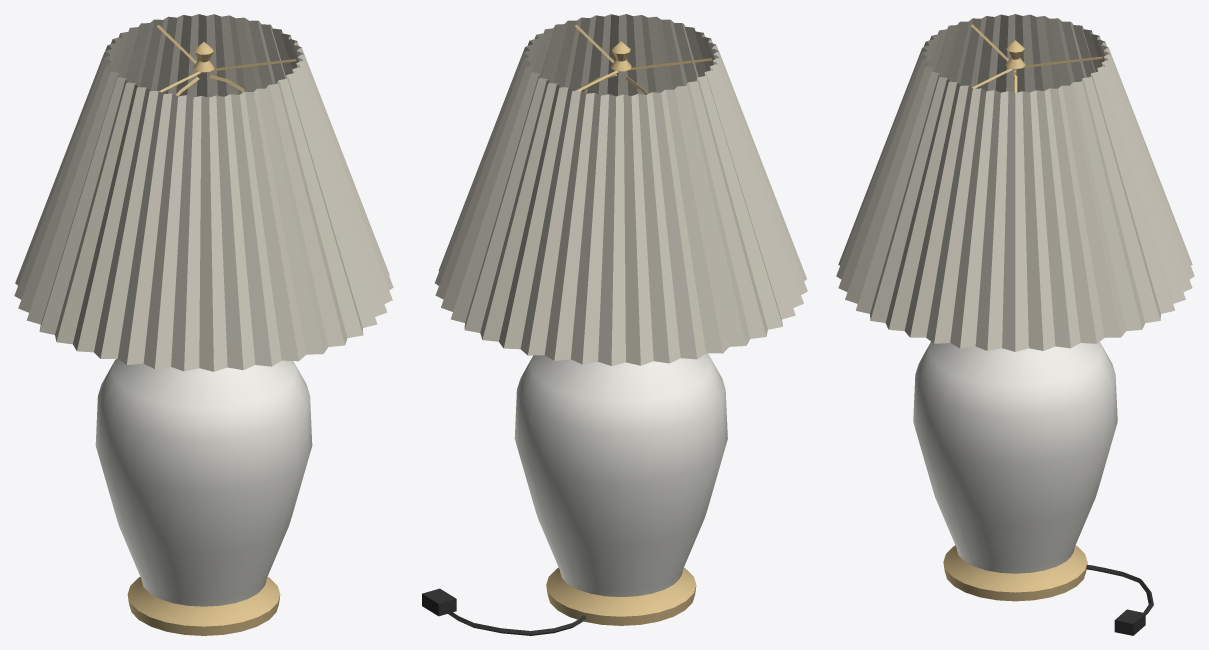
File: Kit_TableLampPleated.fbx
3 views of the same model, side by side, from view 1: azimuth 30°, elevation 25°; view 2: azimuth 150°, elevation 25°; view 3: azimuth 270°, elevation 25° (orthographic). The views are drawn at different scales.
Parts seen in each view (by area): view 1: Kit_TableLampPleated_LOD0; view 2: Kit_TableLampPleated_LOD0; view 3: Kit_TableLampPleated_LOD0.
Boxes of the visible parts, box(x1,y1,x2,y2) form: Kit_TableLampPleated_LOD0: box(14, 14, 393, 635); Kit_TableLampPleated_LOD0: box(422, 14, 807, 635); Kit_TableLampPleated_LOD0: box(836, 14, 1194, 635).
Size of what is drawn, in the model's own units: 0.38 by 0.6211 by 0.38.
